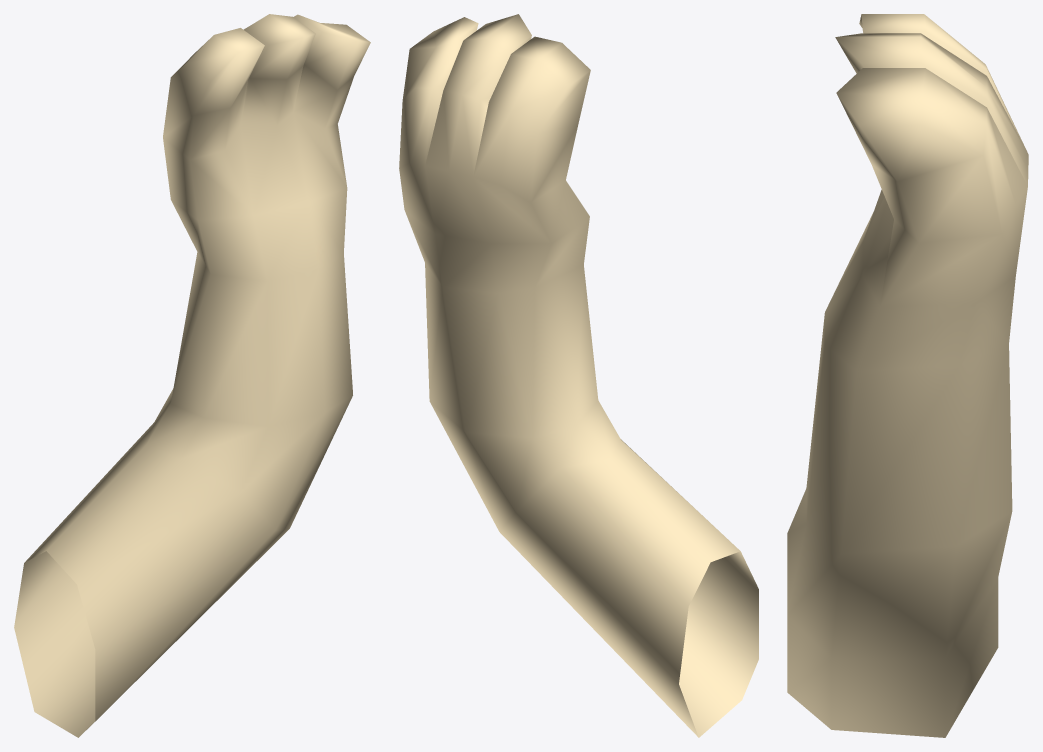
File: Bloc_Conncection_5.fbx
3 views of the same model, side by side, from view 1: azimuth 30°, elevation 25°; view 2: azimuth 150°, elevation 25°; view 3: azimuth 270°, elevation 25° (orthographic). The views are drawn at different scales.
Parts seen in each view (by area): view 1: Bloc_Conncection_5; view 2: Bloc_Conncection_5; view 3: Bloc_Conncection_5.
Part boxes in pixels (box(x1,y1,x2,y2)): Bloc_Conncection_5: box(14, 14, 370, 737); Bloc_Conncection_5: box(399, 14, 758, 737); Bloc_Conncection_5: box(787, 14, 1028, 737).
Size of the model in its own units: 382 by 1471 by 718.
